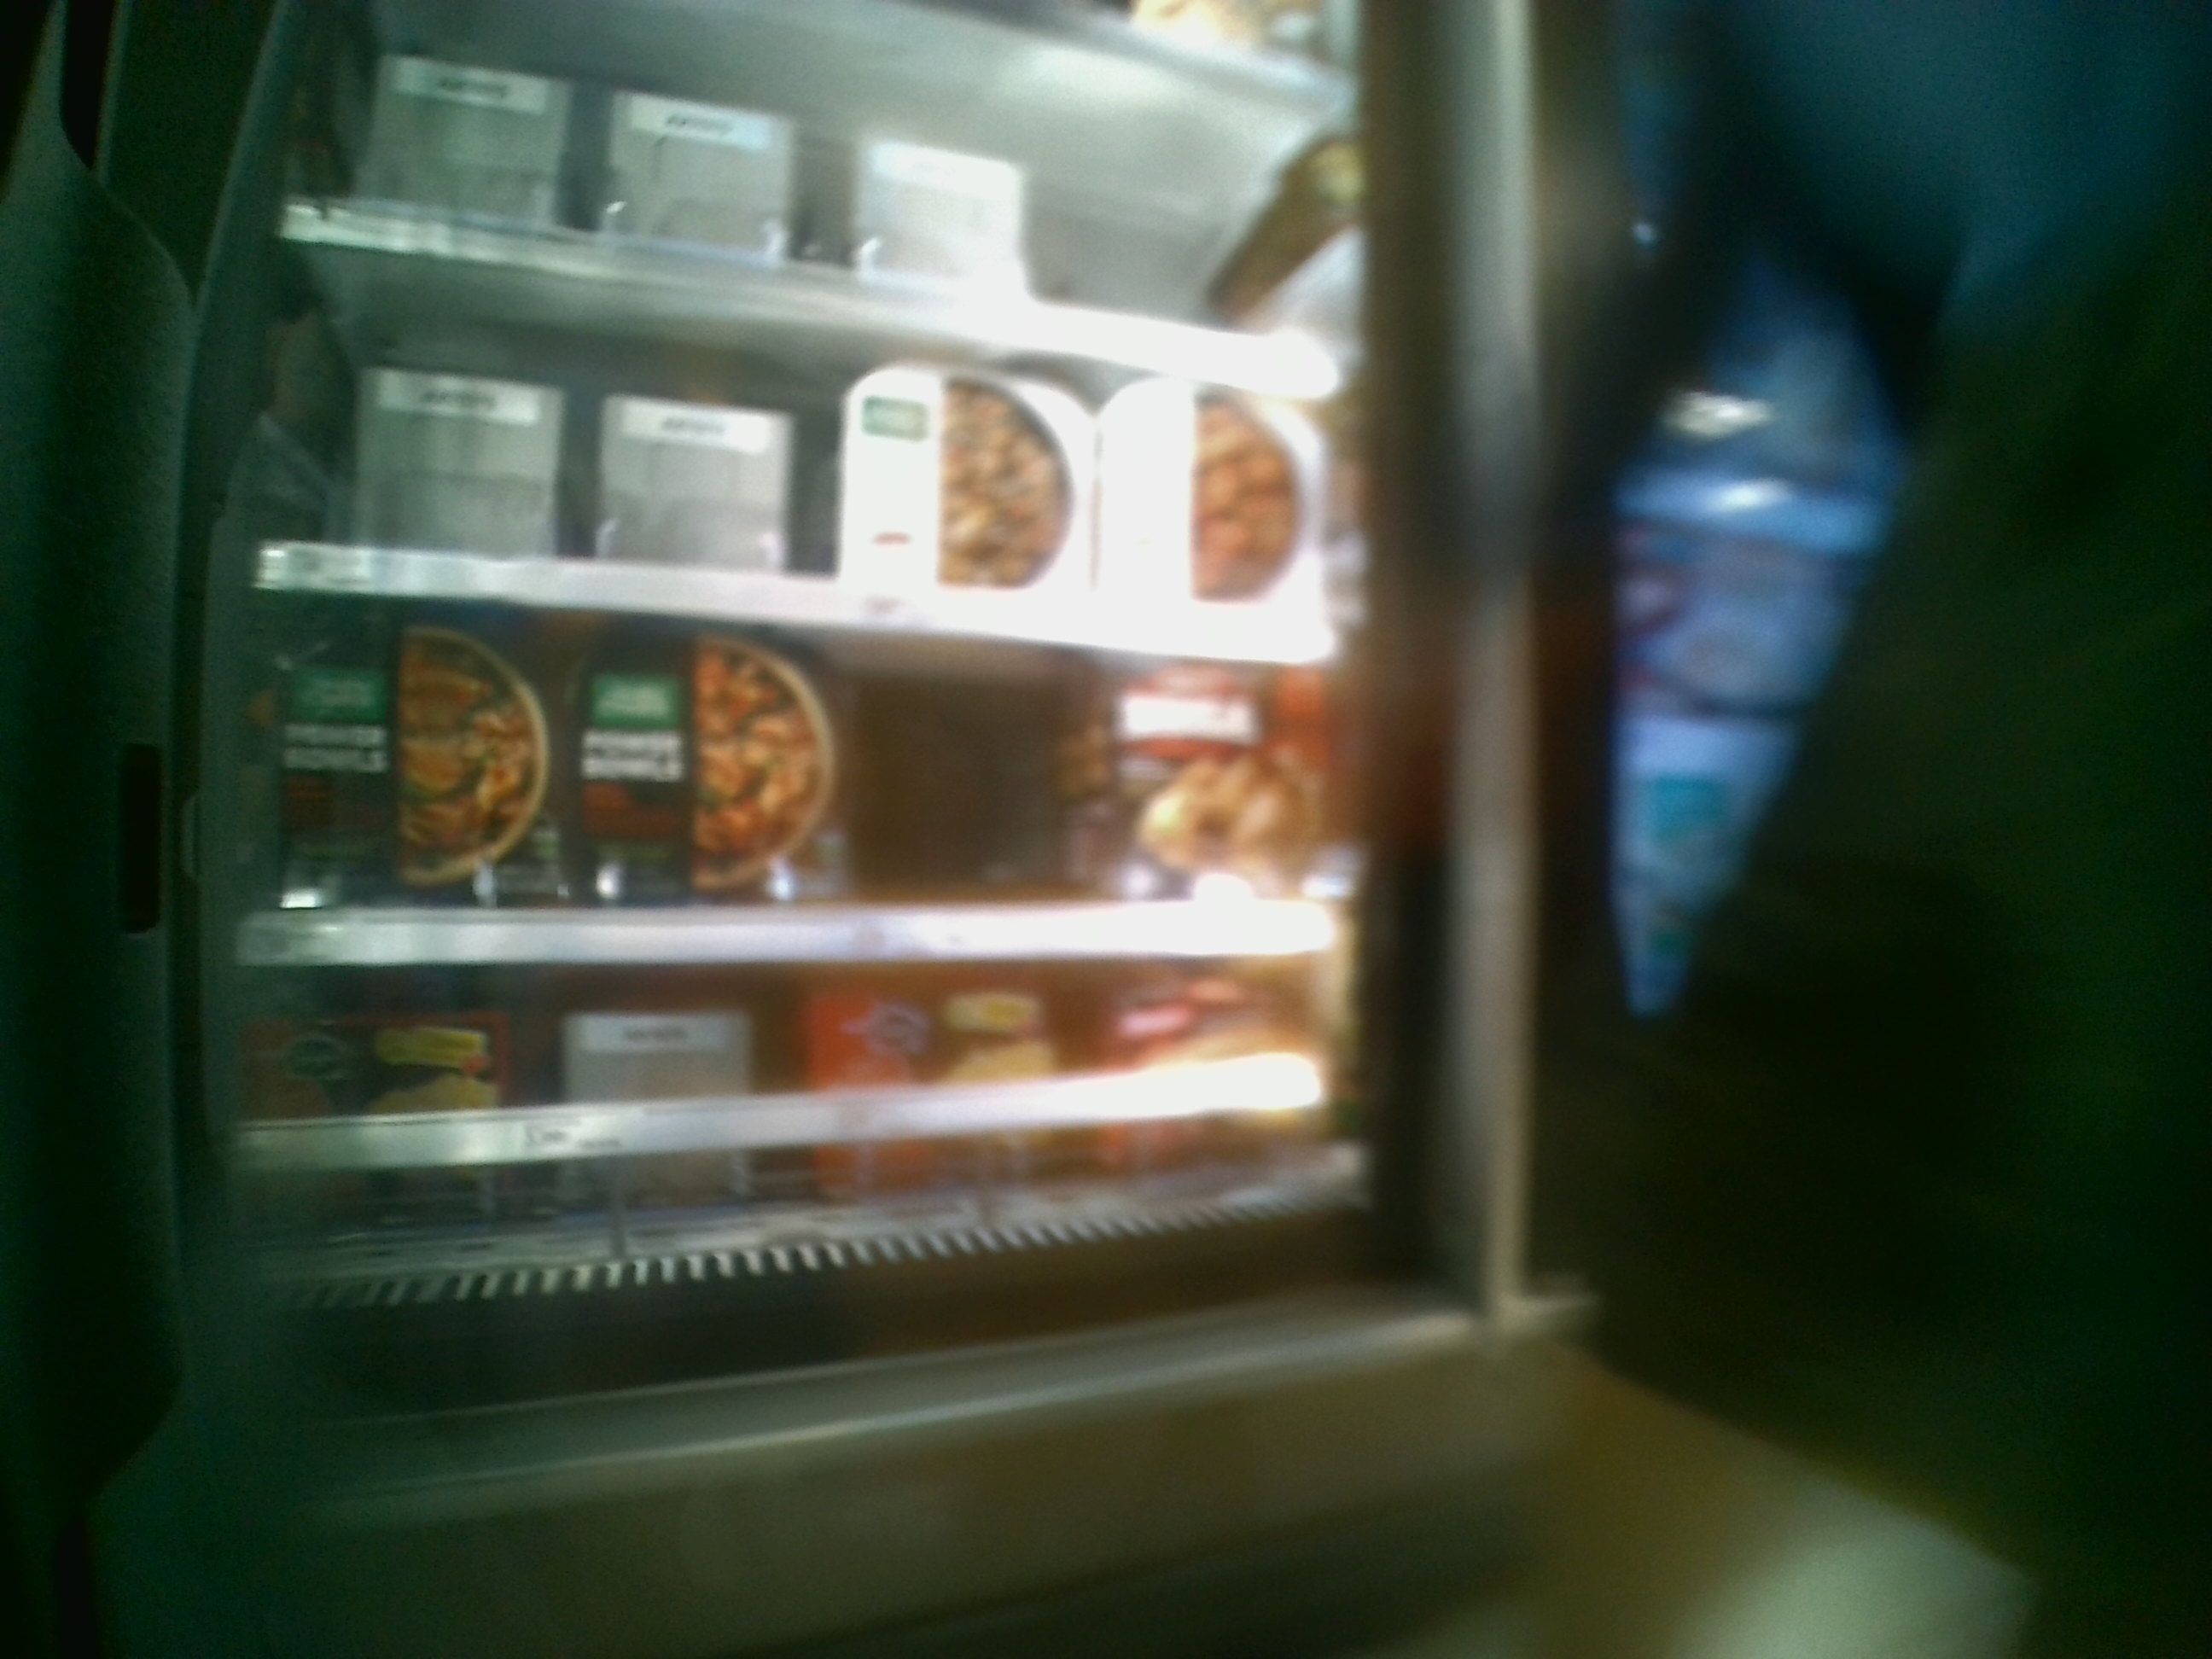Shelf: (233, 596, 1338, 957), (235, 962, 1350, 1270)
